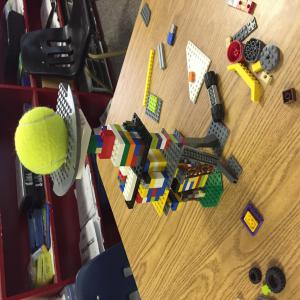TennisBall: (14, 106, 72, 175)
